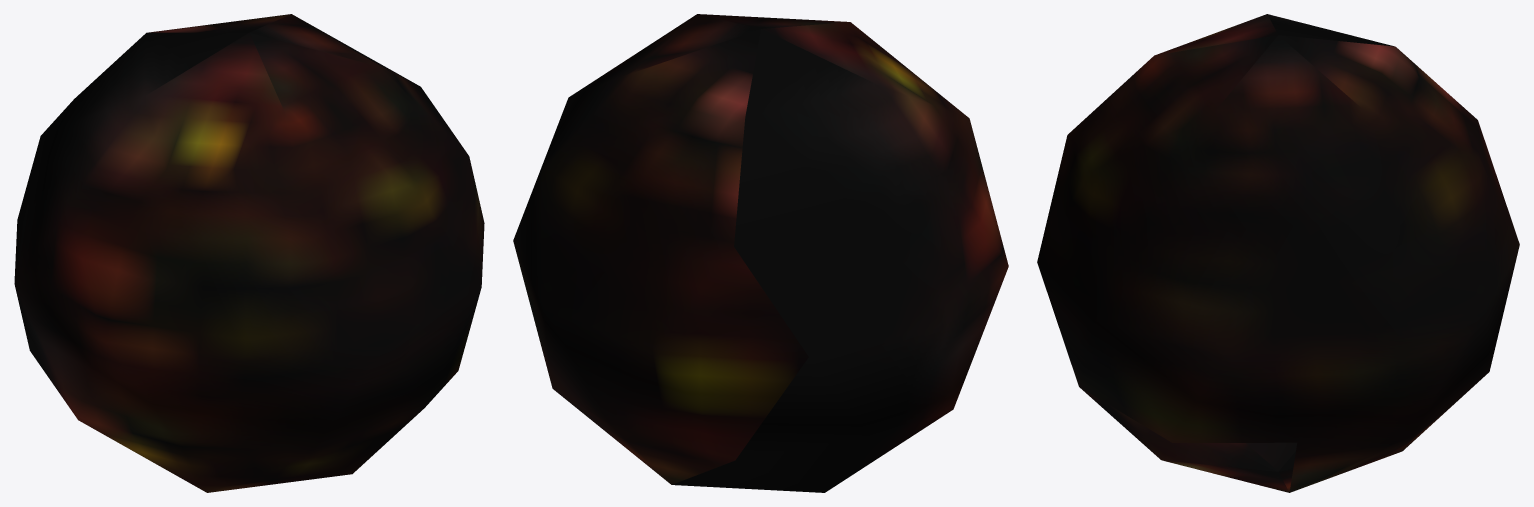
Rendered from datan_common_ExplodeBU-_3c1d8d8a.obj.
3 renders of one model, left to right at view 1: azimuth 30°, elevation 25°; view 2: azimuth 150°, elevation 25°; view 3: azimuth 270°, elevation 25°, orthographic. The views are drawn at different scales.
Parts seen in each view (by area): view 1: datan_common_ExplodeBU-_3c1d8d8a; view 2: datan_common_ExplodeBU-_3c1d8d8a; view 3: datan_common_ExplodeBU-_3c1d8d8a.
Boxes of the visible parts, box(x1,y1,x2,y2) form: datan_common_ExplodeBU-_3c1d8d8a: box(14, 14, 484, 492); datan_common_ExplodeBU-_3c1d8d8a: box(513, 14, 1008, 492); datan_common_ExplodeBU-_3c1d8d8a: box(1037, 14, 1519, 492).
Bounding box in the file's own units: 0.00208 × 0.00212 × 0.00212.
Materials: 1 (1 with a texture image).
